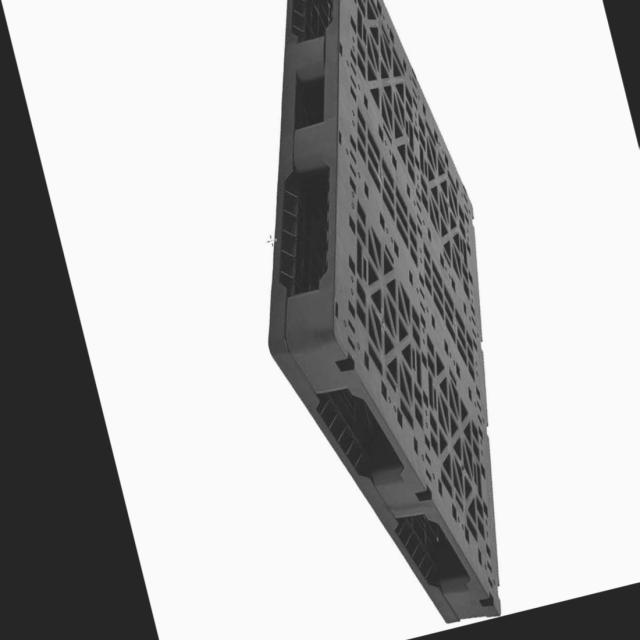non-igps: (255, 0, 512, 640)
